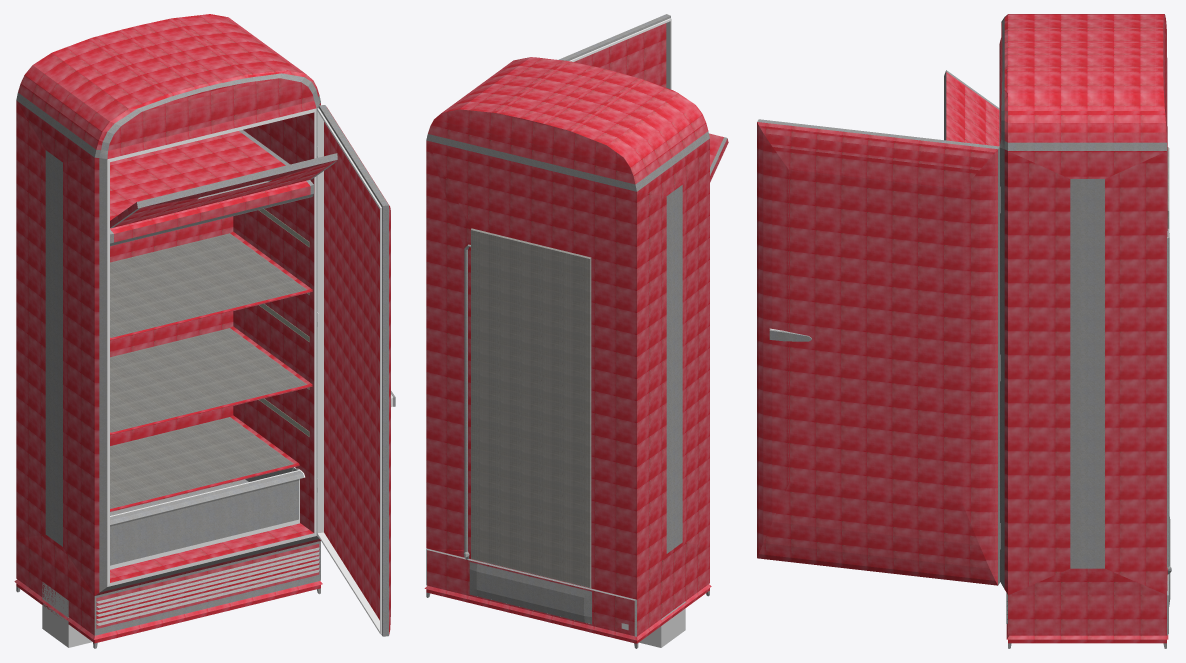
3 views of the same model, side by side, from view 1: azimuth 30°, elevation 25°; view 2: azimuth 150°, elevation 25°; view 3: azimuth 270°, elevation 25° (orthographic). The views are drawn at different scales.
Visible parts, largest first — view 1: pb45984, Cube; view 2: pb45984, Cube; view 3: pb45984.
Part boxes in pixels (x1,y1,x2,y2): pb45984: (14, 14, 395, 648); Cube: (42, 582, 92, 647); pb45984: (424, 14, 728, 648); Cube: (639, 601, 685, 647); pb45984: (757, 14, 1171, 648).
Bounding box in the file's own units: 1012 × 2348 × 1566.
